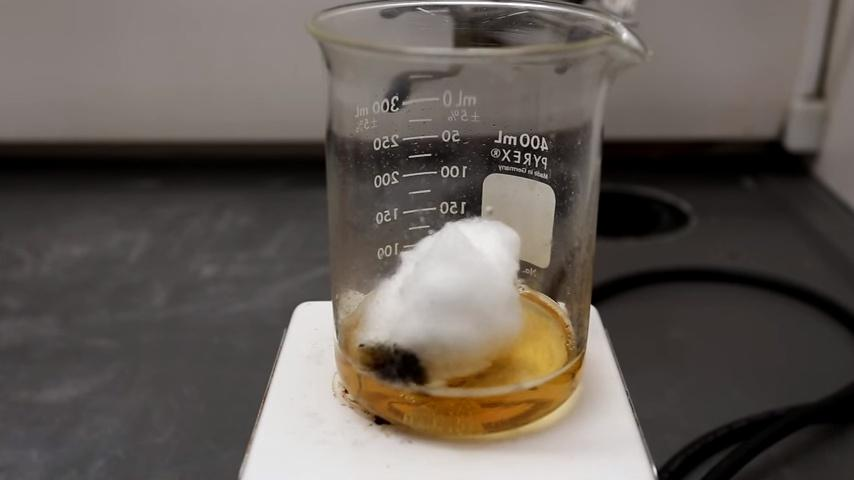Beaker: (299, 8, 647, 439)
